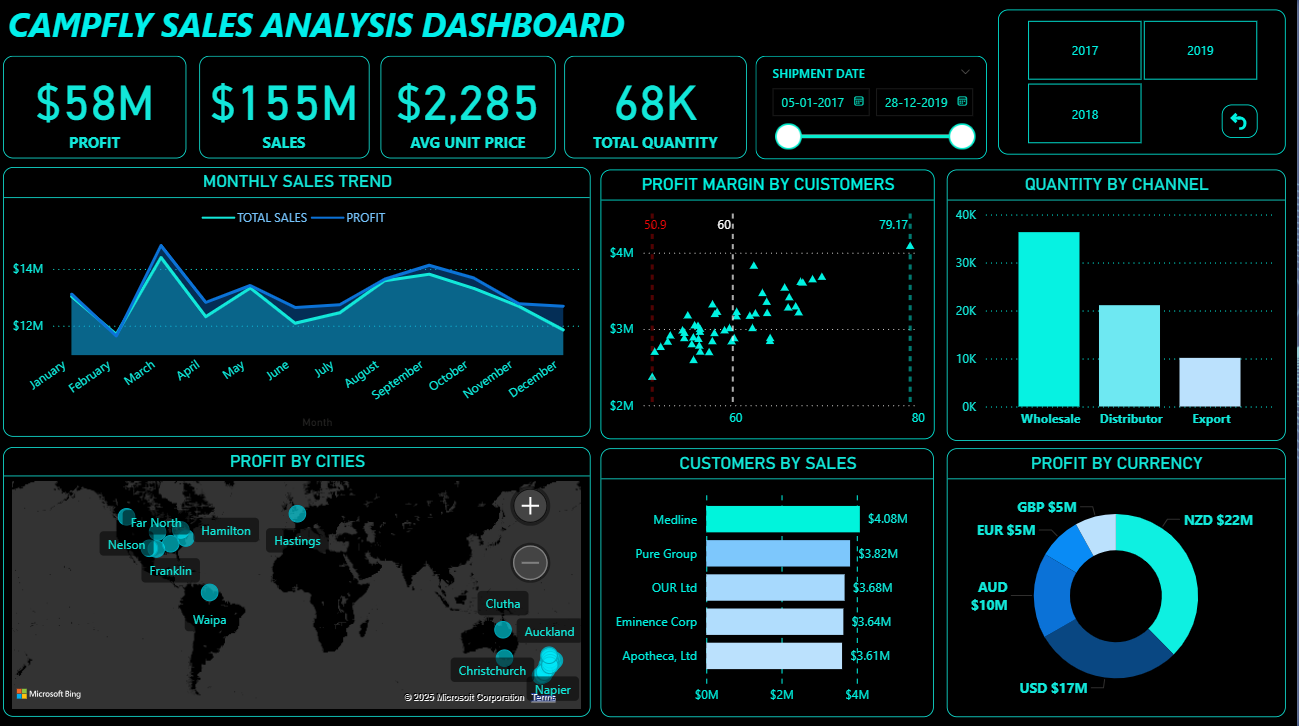

Layout of this report page (visuals, bound fields, positions):
{"tool":"powerbi","page":{"name":"SALES DASHBOARD","canvas":[1280,720],"ordinal":0},"visuals":[{"type":"card","fields":{"Values":["Sum(Sales Orders.Profit)"]},"box":[9.8,57.9,180.4,100.6],"z":0},{"type":"card","fields":{"Values":["Sum(Sales Orders.Total Sales)"]},"box":[202.5,57.9,166.9,100.6],"z":1000},{"type":"card","fields":{"Values":["Avg(Sales Orders.Unit Price)"]},"box":[380.4,57.9,171.8,100.6],"z":2000},{"type":"areaChart","title":"MONTHLY SALES TREND ","fields":{"Category":["Sales Orders.OrderDate.Variation.Date Hierarchy.Month"],"Y":["Sum(Sales Orders.Total Sales)"],"Y2":["Sum(Sales Orders.Profit)"]},"box":[9.8,166.9,576.7,265],"z":3000},{"type":"donutChart","title":"PROFIT BY CURRENCY","fields":{"Category":["Sales Orders.Currency Code"],"Y":["Sum(Sales Orders.Profit)"]},"box":[936.2,442.5,332.5,263.8],"z":4000},{"type":"map","title":"PROFIT BY CITIES","fields":{"Category":["Regions.City"],"Size":["Sum(Sales Orders.Profit)"]},"box":[9.8,441.7,576.7,265],"z":5000},{"type":"columnChart","title":"QUANTITY BY CHANNEL","fields":{"Category":["Sales Orders.Channel"],"Y":["Sum(Sales Orders.Order Quantity)"]},"box":[936.2,168.8,332.5,266.2],"z":6000},{"type":"barChart","title":"CUSTOMERS BY SALES","fields":{"Category":["Customers.Customer Names"],"Y":["Sum(Sales Orders.Total Sales)"]},"box":[596.2,442.5,327.5,263.8],"z":7000},{"type":"slicer","fields":{"Values":["Sales Orders.OrderDate.Variation.Date Hierarchy.Year"]},"box":[986.5,12.3,282.2,142.3],"z":8000},{"type":"scatterChart","title":"PROFIT MARGIN BY CUISTOMERS","fields":{"Category":["Sales Orders.Customer Name Index"],"X":["Sum(Sales Orders.Profit Margin)"],"Y":["Sum(Sales Orders.Total Sales)"]},"box":[596.3,169.3,327.6,265],"z":9000},{"type":"actionButton","box":[1206.1,105.5,35.6,33.1],"z":10000},{"type":"card","fields":{"Values":["Sum(Sales Orders.Order Quantity)"]},"box":[560.7,57.9,179.1,100.6],"z":11000},{"type":"slicer","fields":{"Values":["Sales Orders.Ship Date"]},"box":[748.8,57.5,227.5,101.2],"z":12000},{"type":"textbox","box":[10,0,967.5,57.5],"z":13000}]}

Visuals, with their boxes in screenshot pixels (x1, y1, x2, y2), scaled from the page's 1280x720 canvas onto the 1299x726 screenshot:
card - Sum(Sales Orders.Profit): <region>10, 58, 193, 160</region>
card - Sum(Sales Orders.Total Sales): <region>206, 58, 375, 160</region>
card - Avg(Sales Orders.Unit Price): <region>386, 58, 560, 160</region>
"MONTHLY SALES TREND " areaChart: <region>10, 168, 595, 435</region>
"PROFIT BY CURRENCY" donutChart: <region>950, 446, 1288, 712</region>
"PROFIT BY CITIES" map: <region>10, 445, 595, 713</region>
"QUANTITY BY CHANNEL" columnChart: <region>950, 170, 1288, 439</region>
"CUSTOMERS BY SALES" barChart: <region>605, 446, 937, 712</region>
slicer - Sales Orders.OrderDate.Variation.Date Hierarchy.Year: <region>1001, 12, 1288, 156</region>
"PROFIT MARGIN BY CUISTOMERS" scatterChart: <region>605, 171, 938, 438</region>
actionButton: <region>1224, 106, 1260, 140</region>
card - Sum(Sales Orders.Order Quantity): <region>569, 58, 751, 160</region>
slicer - Sales Orders.Ship Date: <region>760, 58, 991, 160</region>
textbox: <region>10, 0, 992, 58</region>
